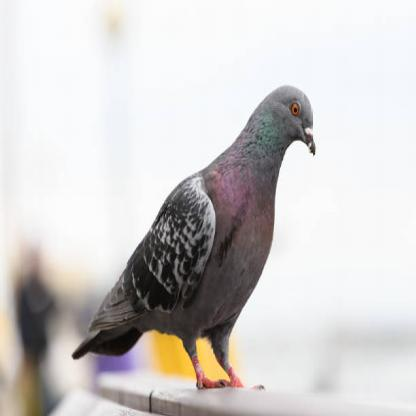Rock Pigeon: (75, 84, 320, 365)
